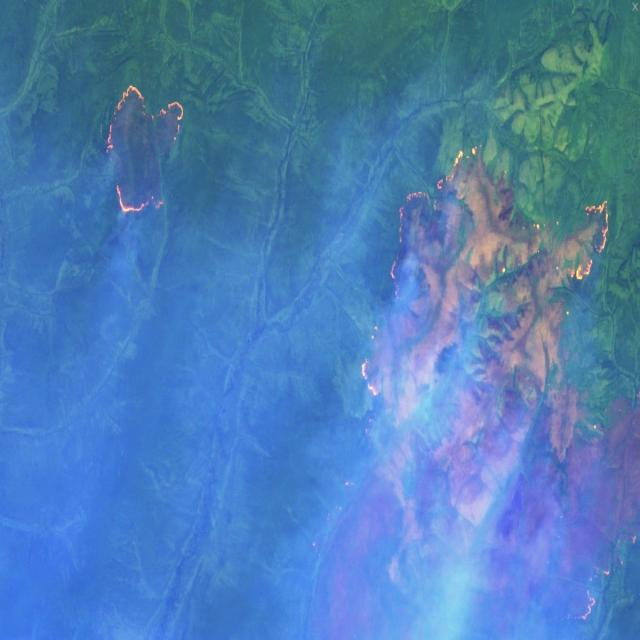fire: (350, 139, 640, 640), (100, 76, 187, 221)
